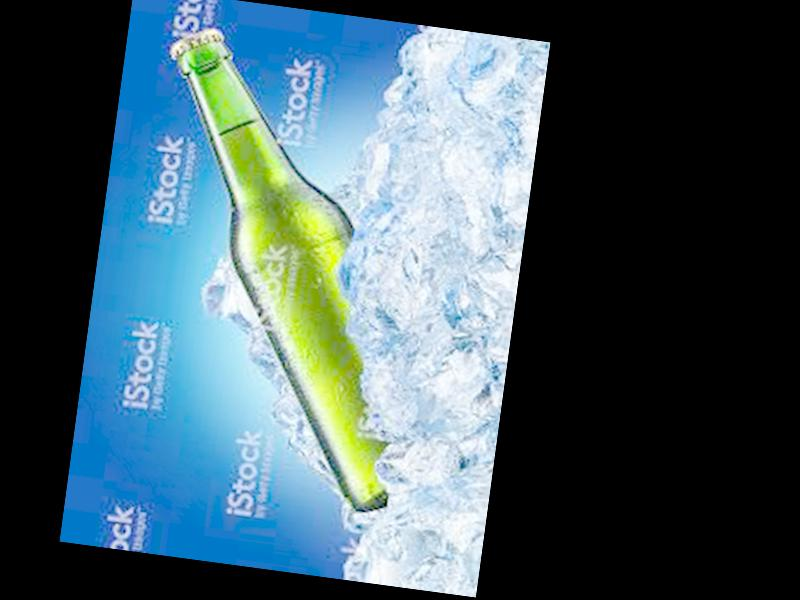Beer: (110, 18, 448, 517)
